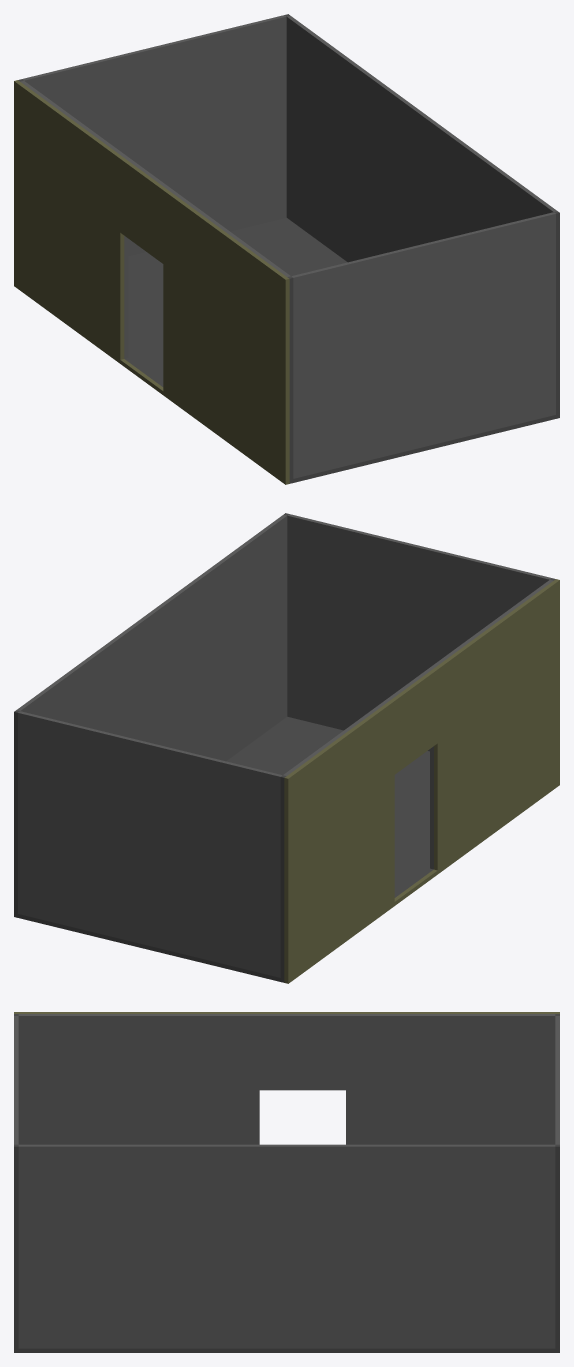
Rendered from BedroomandMainRoom-18.obj.
3 renders of one model, top to bottom at view 1: azimuth 30°, elevation 25°; view 2: azimuth 150°, elevation 25°; view 3: azimuth 270°, elevation 25°, orthographic.
Bounding box in the file's own units: 7 × 5 × 12.
Materials: 1 (1 with a texture image).
